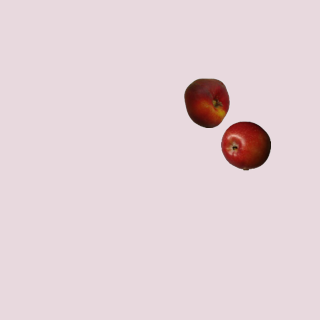Apple Braeburn: (220, 120, 270, 170)
Nectarine Flat: (181, 77, 231, 127)
